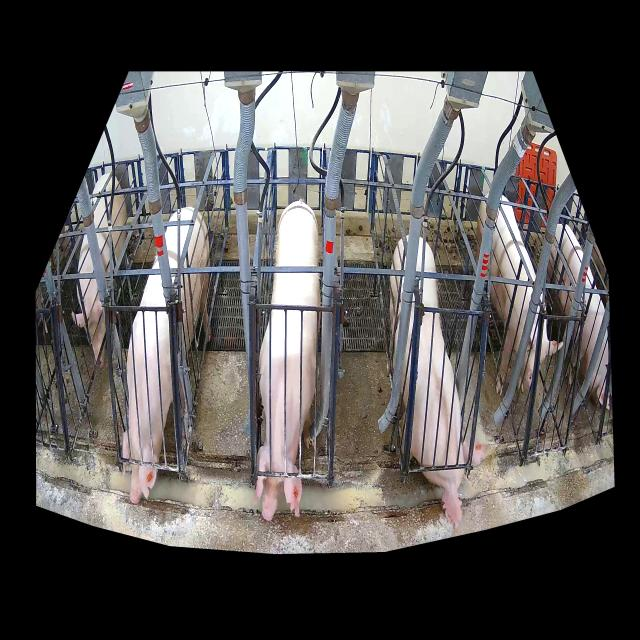pig: (388, 238, 487, 531), (122, 207, 212, 504), (255, 201, 321, 521), (476, 193, 563, 397), (548, 222, 610, 412), (72, 174, 127, 368)
